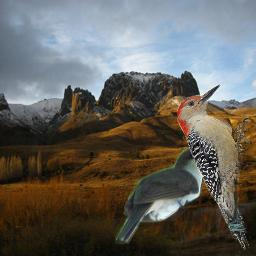Cuckoo: (115, 144, 227, 244)
Woodpecker: (177, 82, 250, 250)
